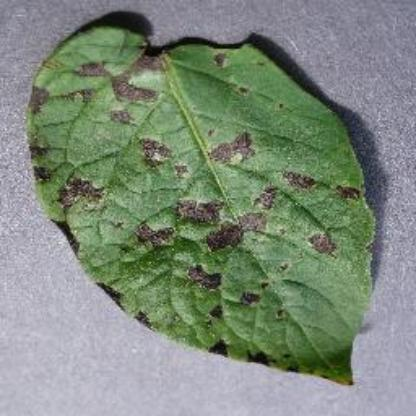Early-Blight: (27, 13, 378, 389)
